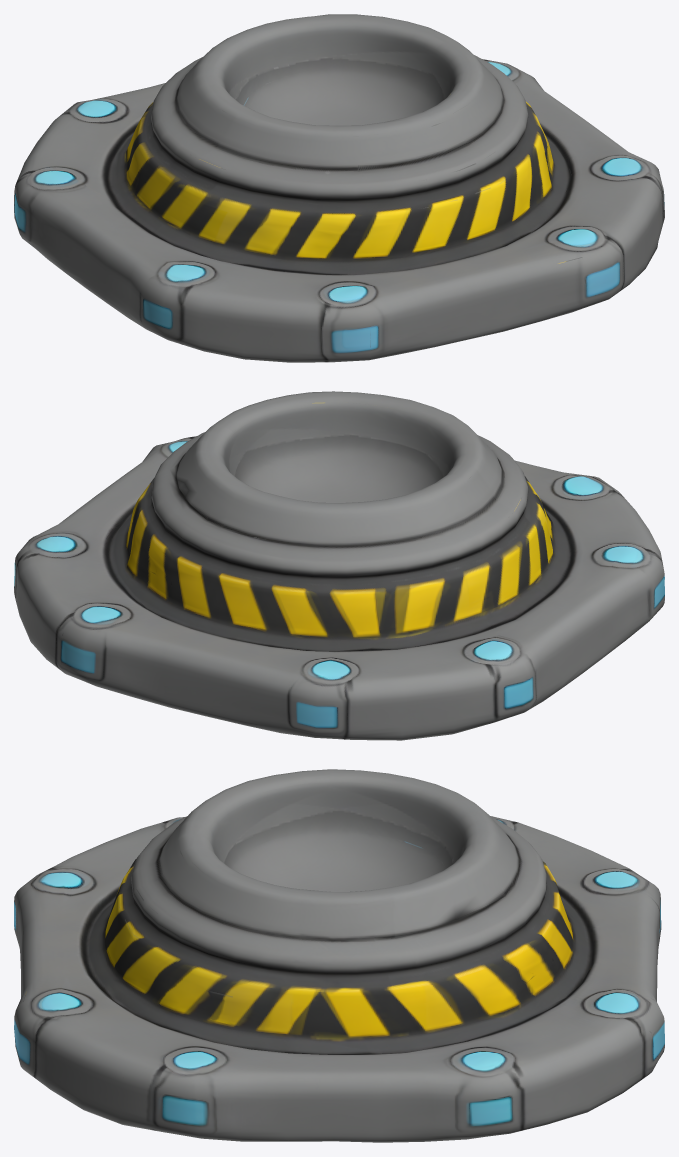
The model's file is Circular & Limited Rotator - B_texture.fbx.
3 views of the same model, one above another, from view 1: azimuth 30°, elevation 25°; view 2: azimuth 150°, elevation 25°; view 3: azimuth 270°, elevation 25° (orthographic). The views are drawn at different scales.
Visible parts, largest first — view 1: Mesh0; view 2: Mesh0; view 3: Mesh0.
Boxes of the visible parts, left/top/right/bottom form: Mesh0: left=14, top=14, right=664, bottom=362; Mesh0: left=14, top=391, right=664, bottom=740; Mesh0: left=14, top=769, right=664, bottom=1142.
Bounding box in the file's own units: 191 × 57.28 × 191.
1 material, 1 textured.
